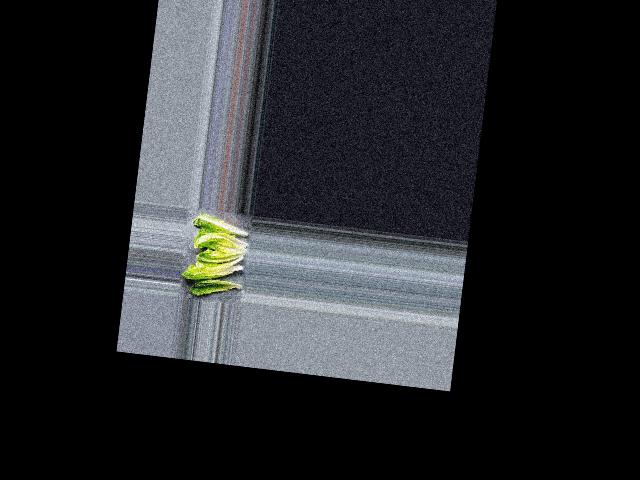lettuce: (189, 275, 244, 299)
